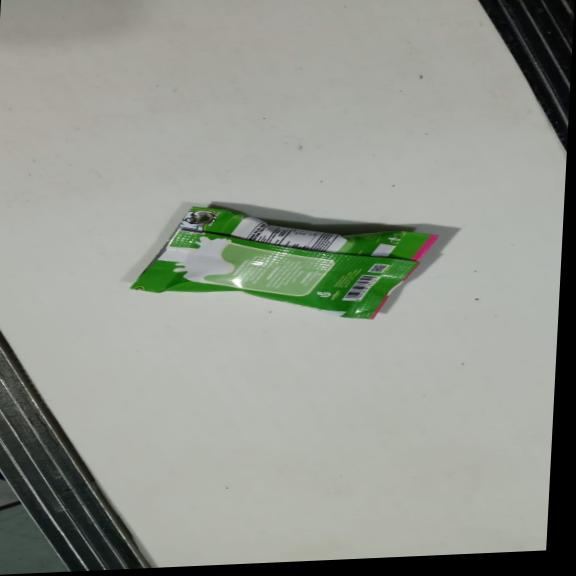Plastik: (125, 196, 437, 331)
